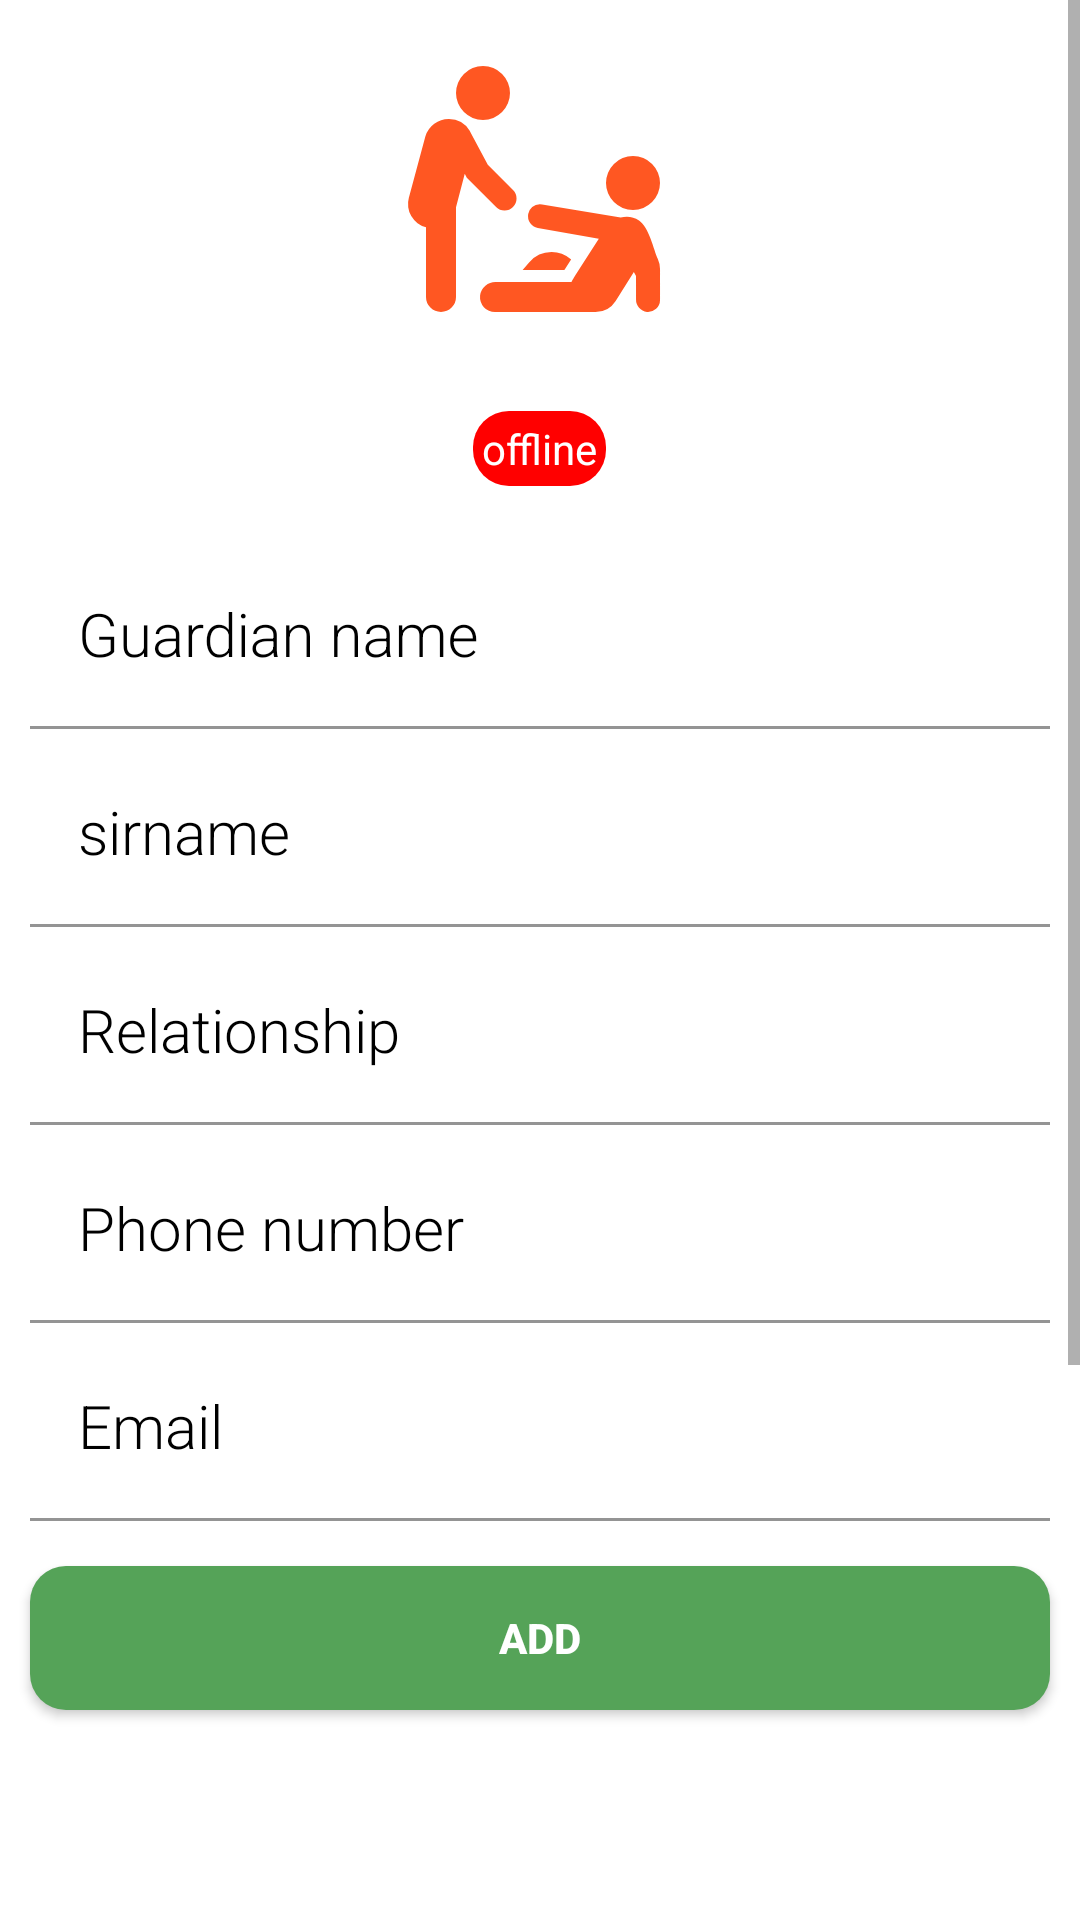

Where to tap for icons on this 1080 x 1920 app screen, as (x=x, y=y):
helping: (x=534, y=189)
